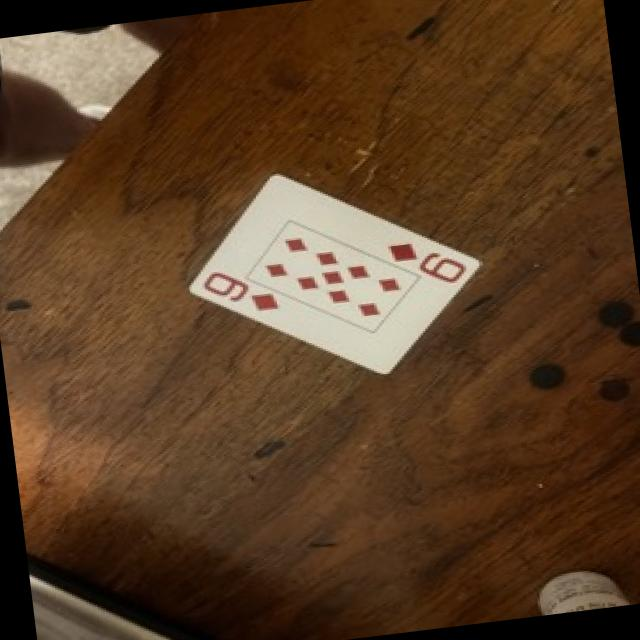9 of diamonds: (190, 173, 480, 372)
